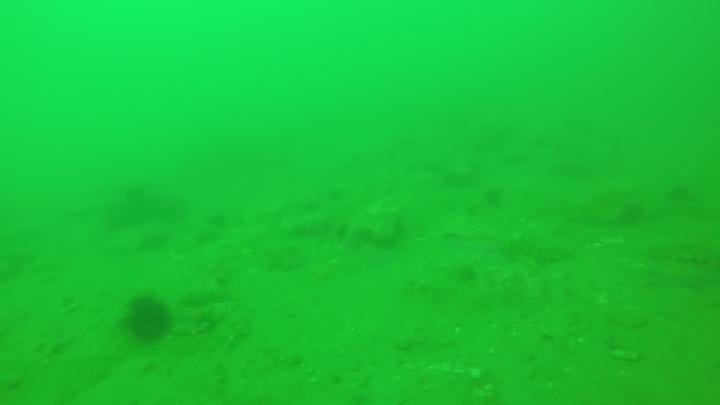echinus: (122, 294, 174, 346), (481, 185, 506, 209)
holothurian: (642, 236, 718, 268)
